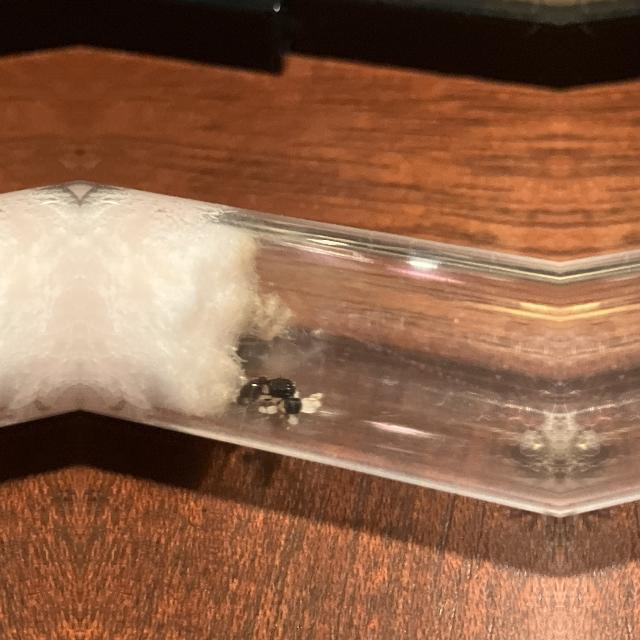Tetramorium: (236, 365, 312, 421)
